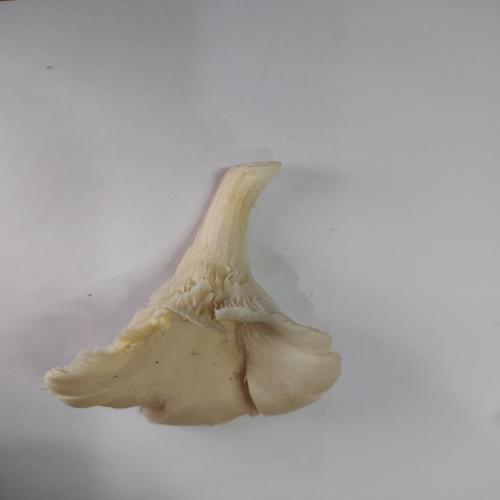Oyster Mushroom: (40, 159, 343, 427)
